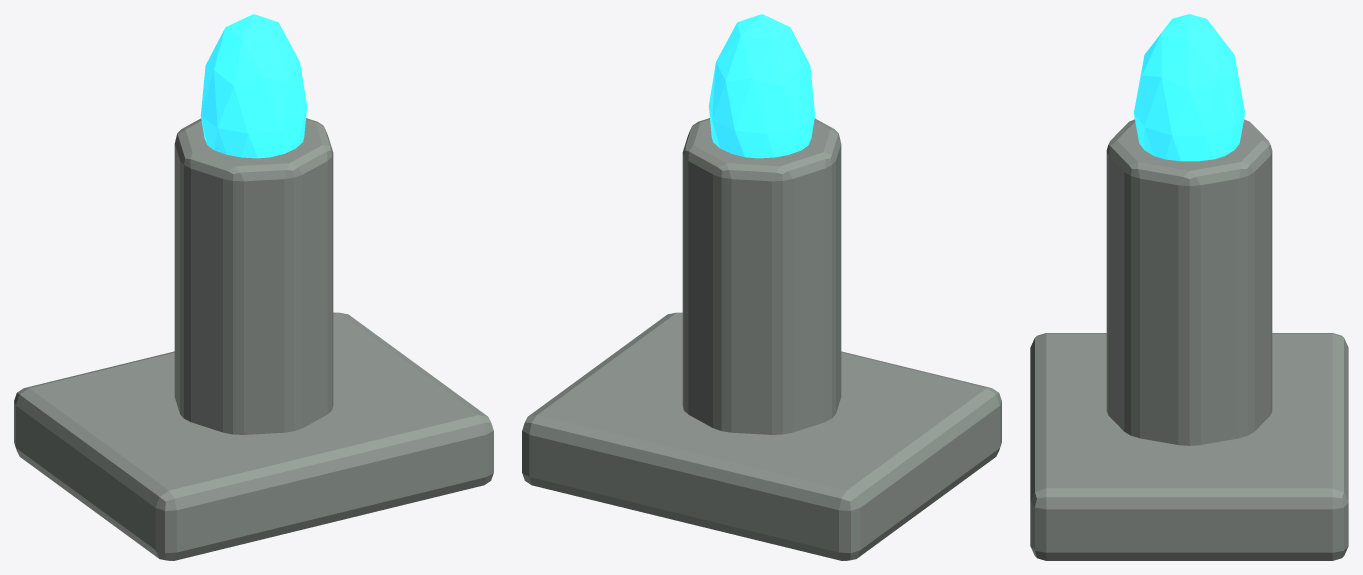
Rendered from Sanctuary-Shrine.glb.
3 views of the same model, side by side, from view 1: azimuth 30°, elevation 25°; view 2: azimuth 150°, elevation 25°; view 3: azimuth 270°, elevation 25° (orthographic). The views are drawn at different scales.
Parts seen in each view (by area): view 1: Broken_Shrine_Base.001, Shrine_Pillar.001, Shrine_Crystal.001; view 2: Broken_Shrine_Base.001, Shrine_Pillar.001, Shrine_Crystal.001; view 3: Broken_Shrine_Base.001, Shrine_Pillar.001, Shrine_Crystal.001.
Part boxes in pixels (x1,y1,x2,y2): Broken_Shrine_Base.001: (14, 312, 493, 560); Shrine_Pillar.001: (174, 118, 333, 434); Shrine_Crystal.001: (200, 14, 307, 158); Broken_Shrine_Base.001: (522, 312, 1001, 560); Shrine_Pillar.001: (682, 118, 841, 434); Shrine_Crystal.001: (708, 14, 815, 158); Broken_Shrine_Base.001: (1030, 333, 1348, 560); Shrine_Pillar.001: (1106, 119, 1272, 445); Shrine_Crystal.001: (1133, 14, 1245, 161).
Bounding box in the file's own units: 2 × 2.6 × 1.6.
